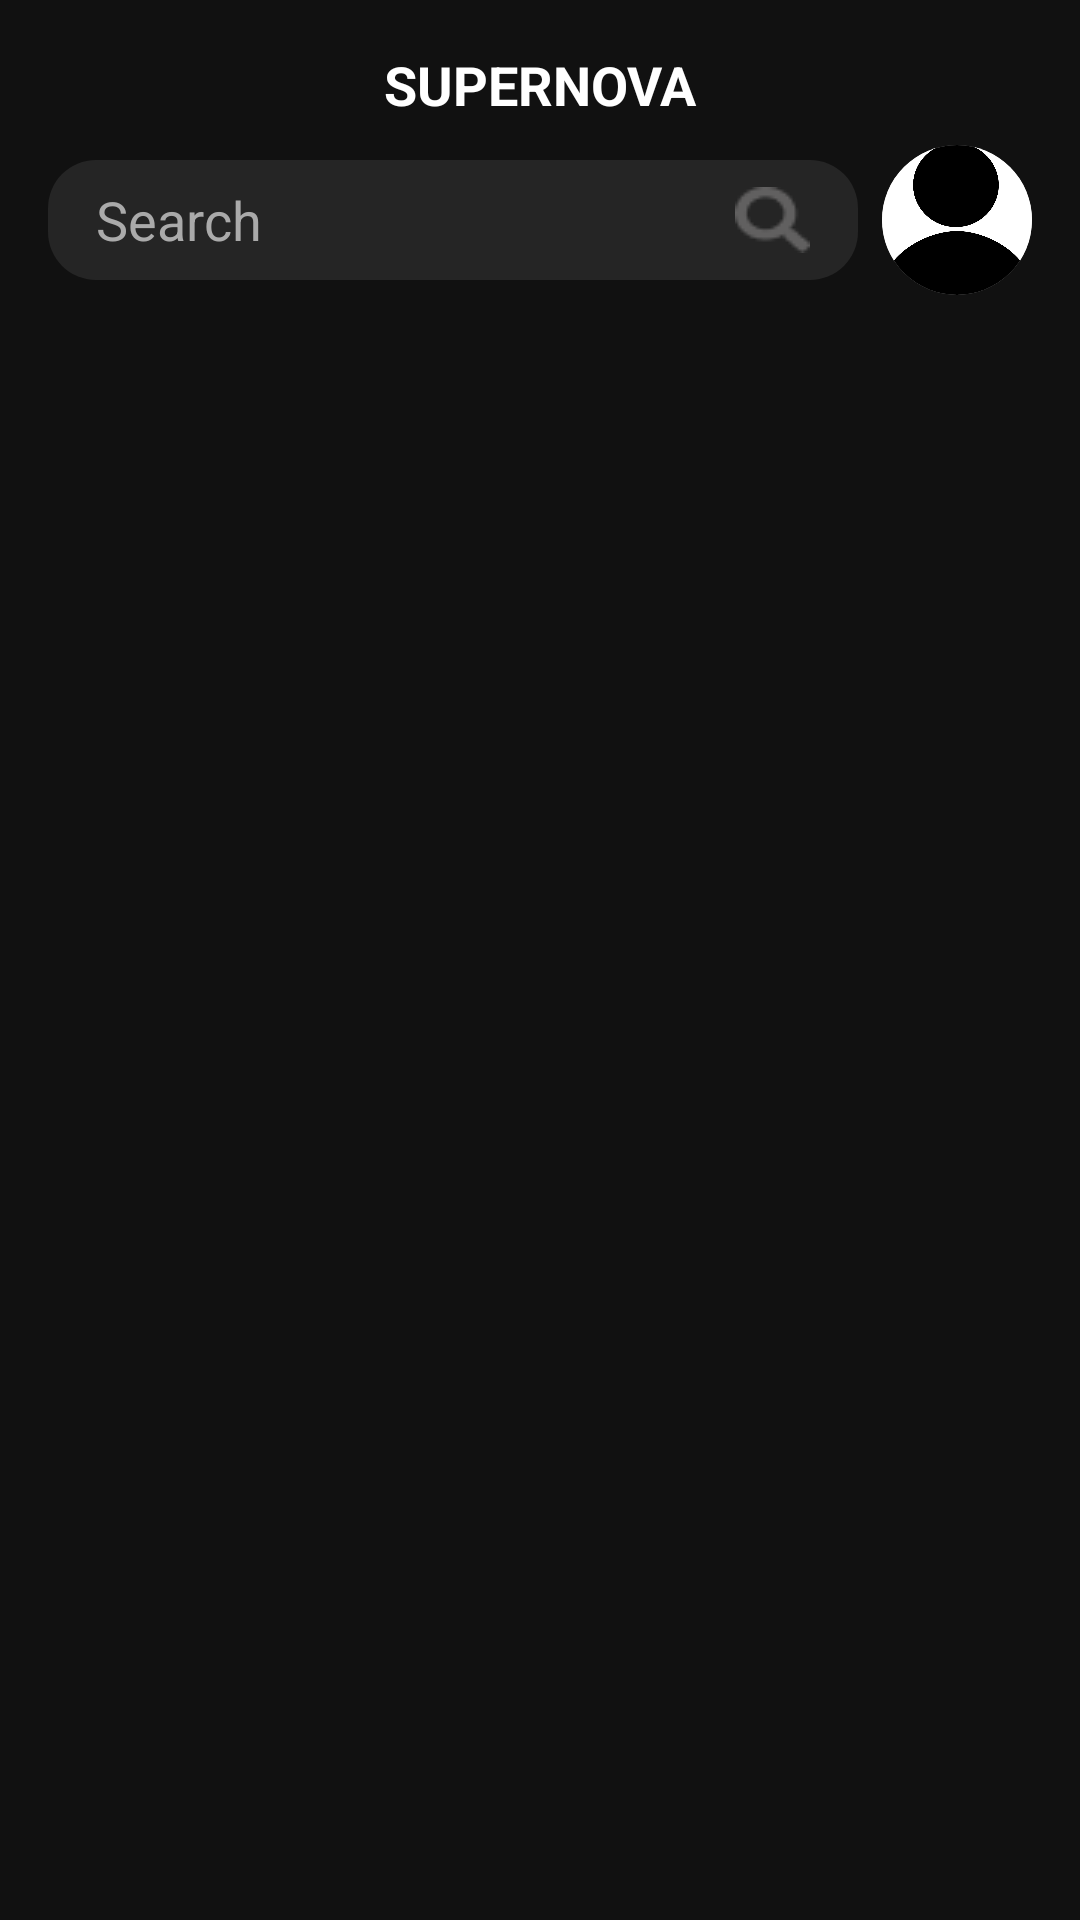

Screen size 1080px x 1920px. Icon name, then its box in pixels as (x1, y1, x2, y2):
profileavatar: (882, 145, 1032, 295)
